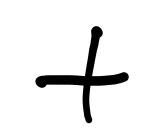plus: (35, 26, 130, 122)
